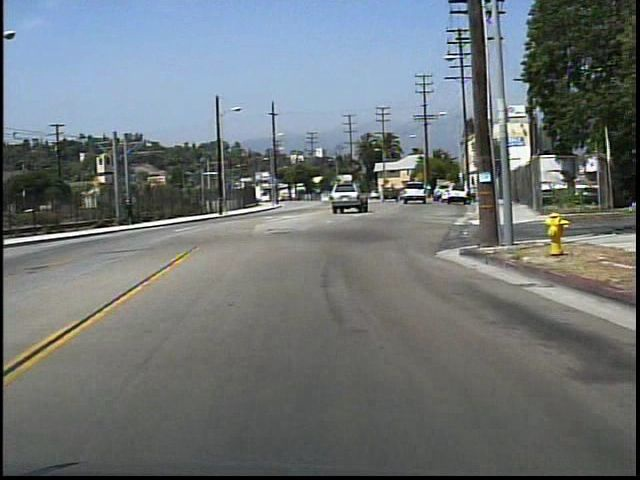person: (125, 195, 139, 227)
